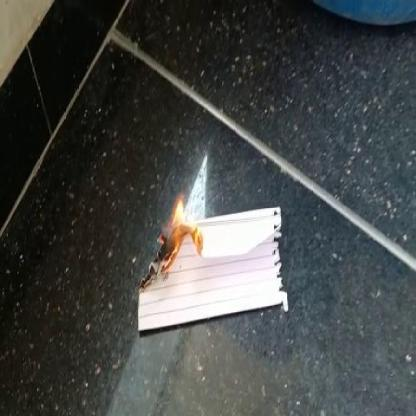Fire: (157, 181, 202, 279)
